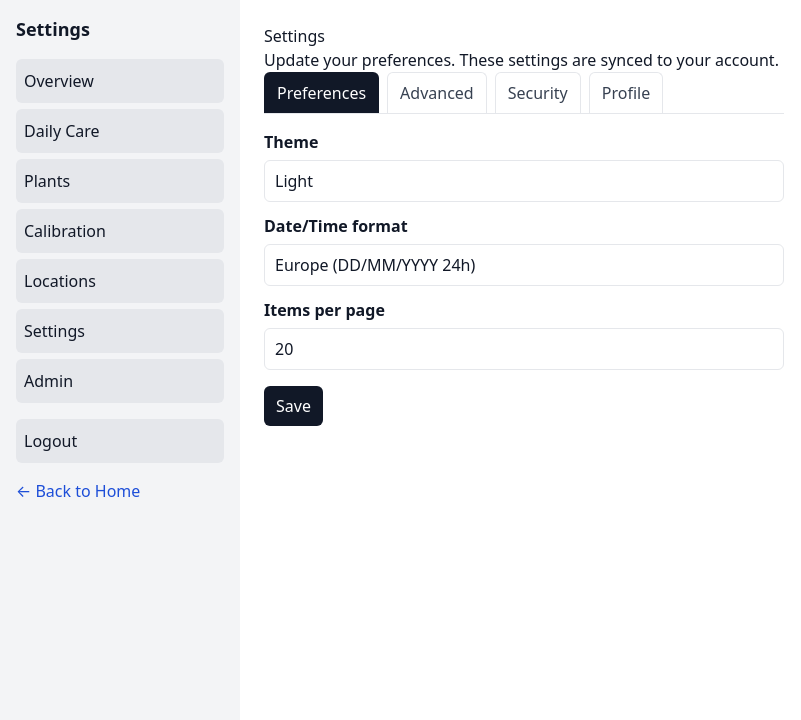
Scenario: pages/Settings › blocks save when default threshold is invalid
The width and height of the screenshot is (801, 720).
What coordinates should you click on to do the following:
click the tab "Advanced"
I would click on:
 (437, 92)
Its box is [387,72,487,113].
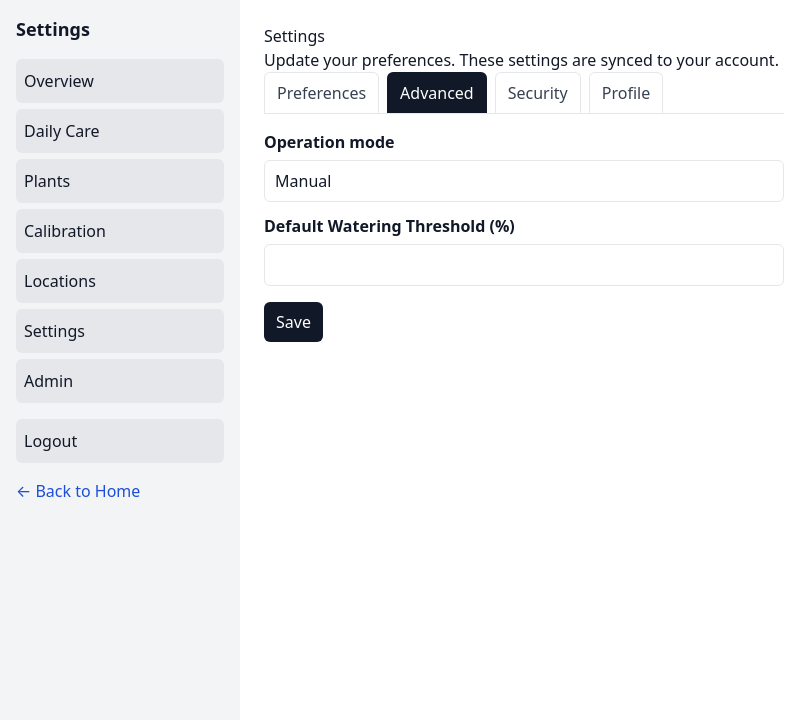
What coordinates should you click on to do the following:
click the button "Save"
I would click on:
 (293, 322)
Its box is [264,302,323,342].
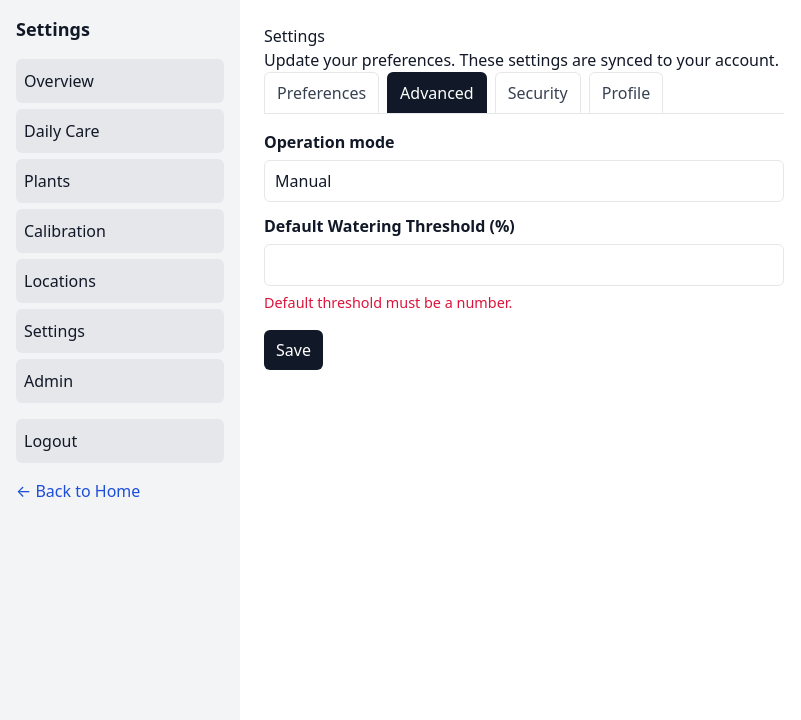
Expected: the text "Default threshold must be a number." is shown, [264,293,512,312]
